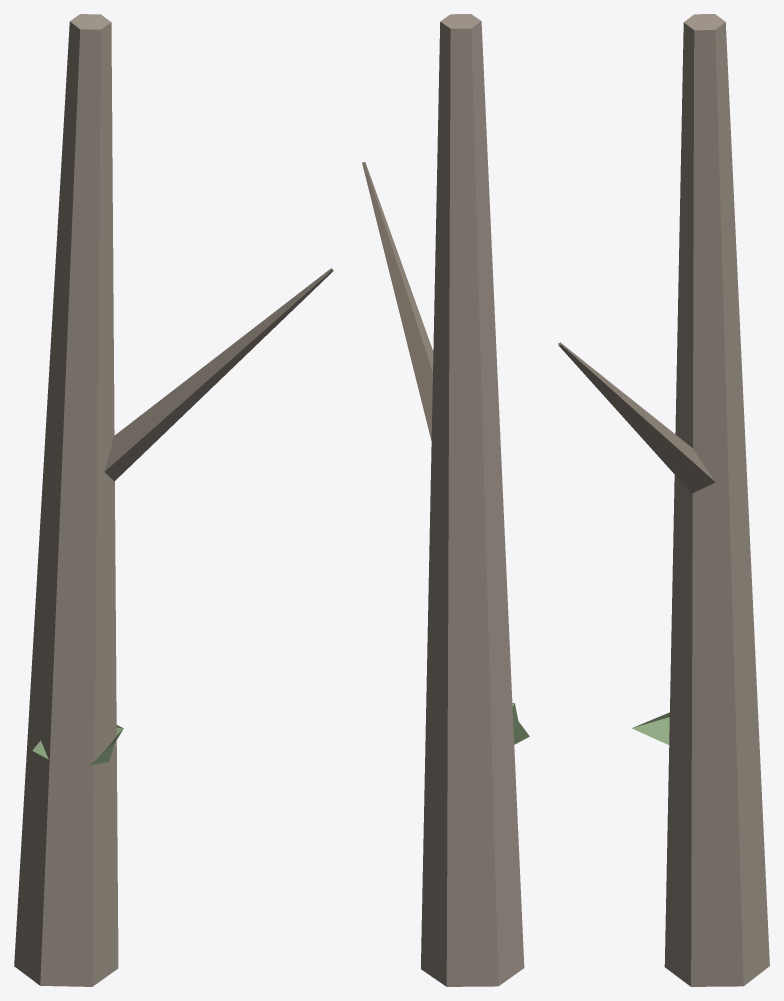
Rendered from snag_v14.glb.
3 views of the same model, side by side, from view 1: azimuth 30°, elevation 25°; view 2: azimuth 150°, elevation 25°; view 3: azimuth 270°, elevation 25° (orthographic).
Parts seen in each view (by area): view 1: lod0; view 2: lod0; view 3: lod0.
Part boxes in pixels (left/top/right/bottom): lod0: left=14, top=14, right=333, bottom=986; lod0: left=362, top=14, right=529, bottom=986; lod0: left=558, top=14, right=769, bottom=986.
Size of what is drawn, in the model's own units: 1.14 by 4.41 by 0.8864.
